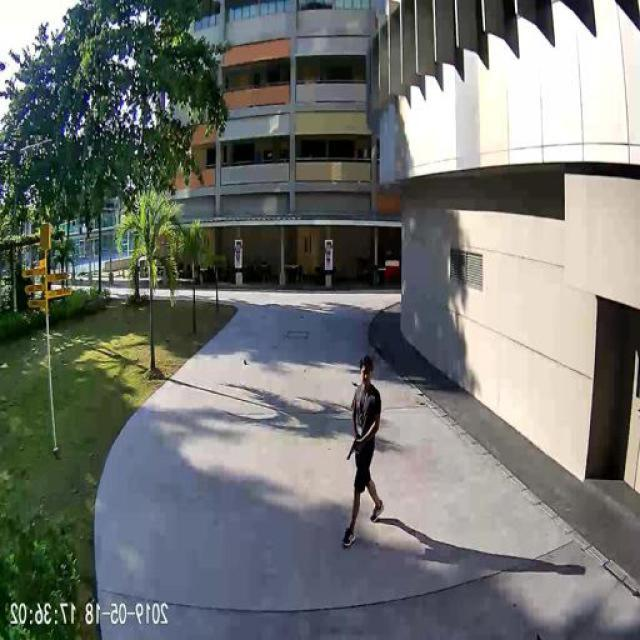weapon: (348, 438, 360, 461)
